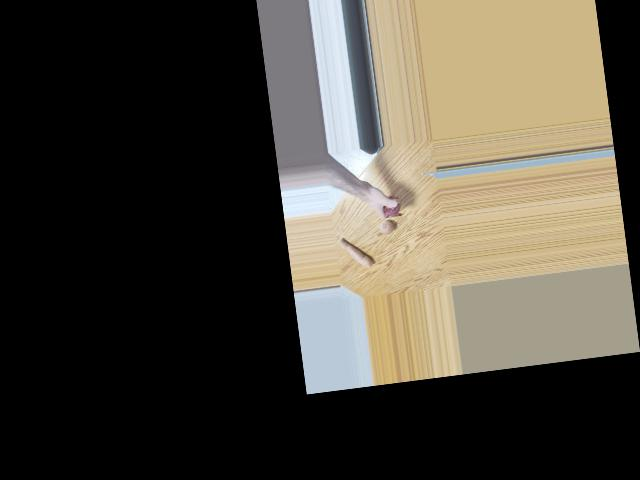onion: (373, 215, 392, 235)
